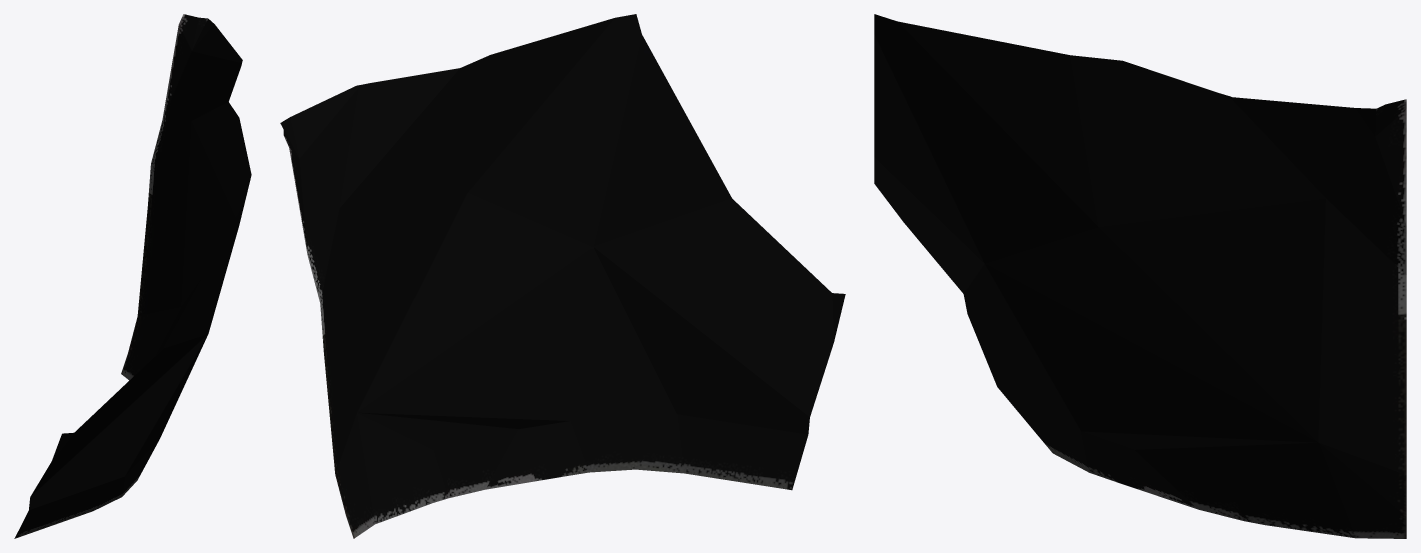
3 views of the same model, side by side, from view 1: azimuth 30°, elevation 25°; view 2: azimuth 150°, elevation 25°; view 3: azimuth 270°, elevation 25° (orthographic). The views are drawn at different scales.
Size of the model in its own units: 1.66 by 1.67 by 1.67.
Materials: 4 (4 with a texture image).
